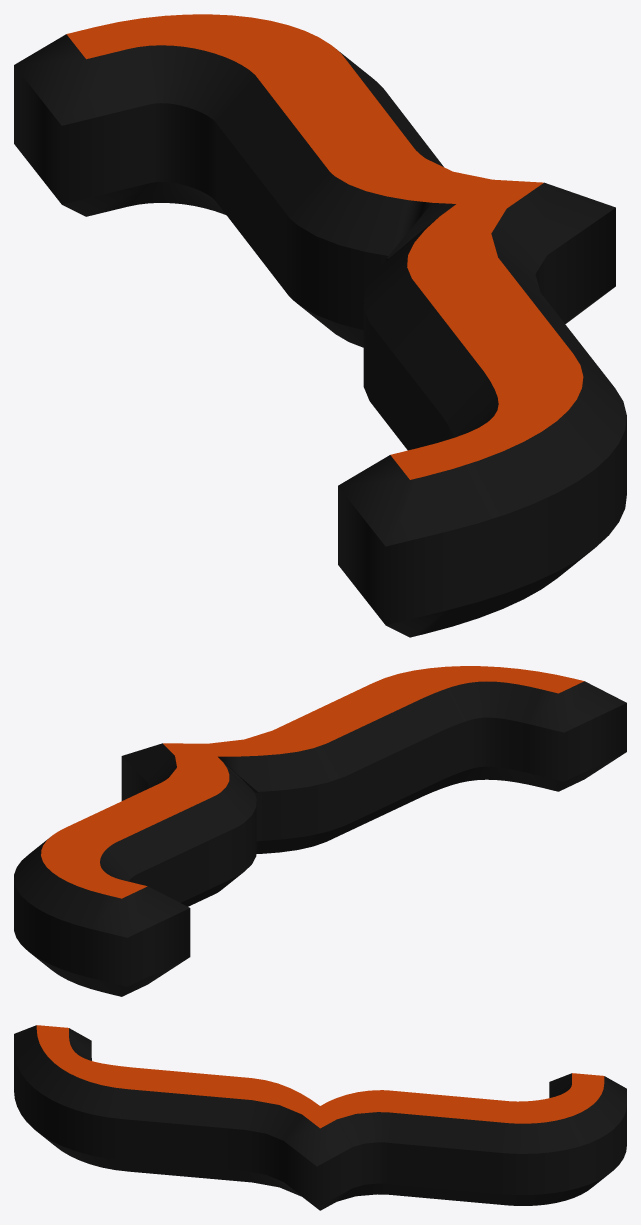
The model's file is AccoladeFermante.fbx.
The picture shows the model from 3 angles, top to bottom: view 1: azimuth 30°, elevation 25°; view 2: azimuth 150°, elevation 25°; view 3: azimuth 270°, elevation 25°; orthographic projection. The views are drawn at different scales.
Visible parts, largest first — view 1: Text; view 2: Text; view 3: Text.
Part boxes in pixels (x1,y1,x2,y2): Text: [14, 14, 626, 637]; Text: [14, 666, 626, 996]; Text: [14, 1025, 626, 1210].
Bounding box in the file's own units: 0.5529 × 0.16 × 1.08.
